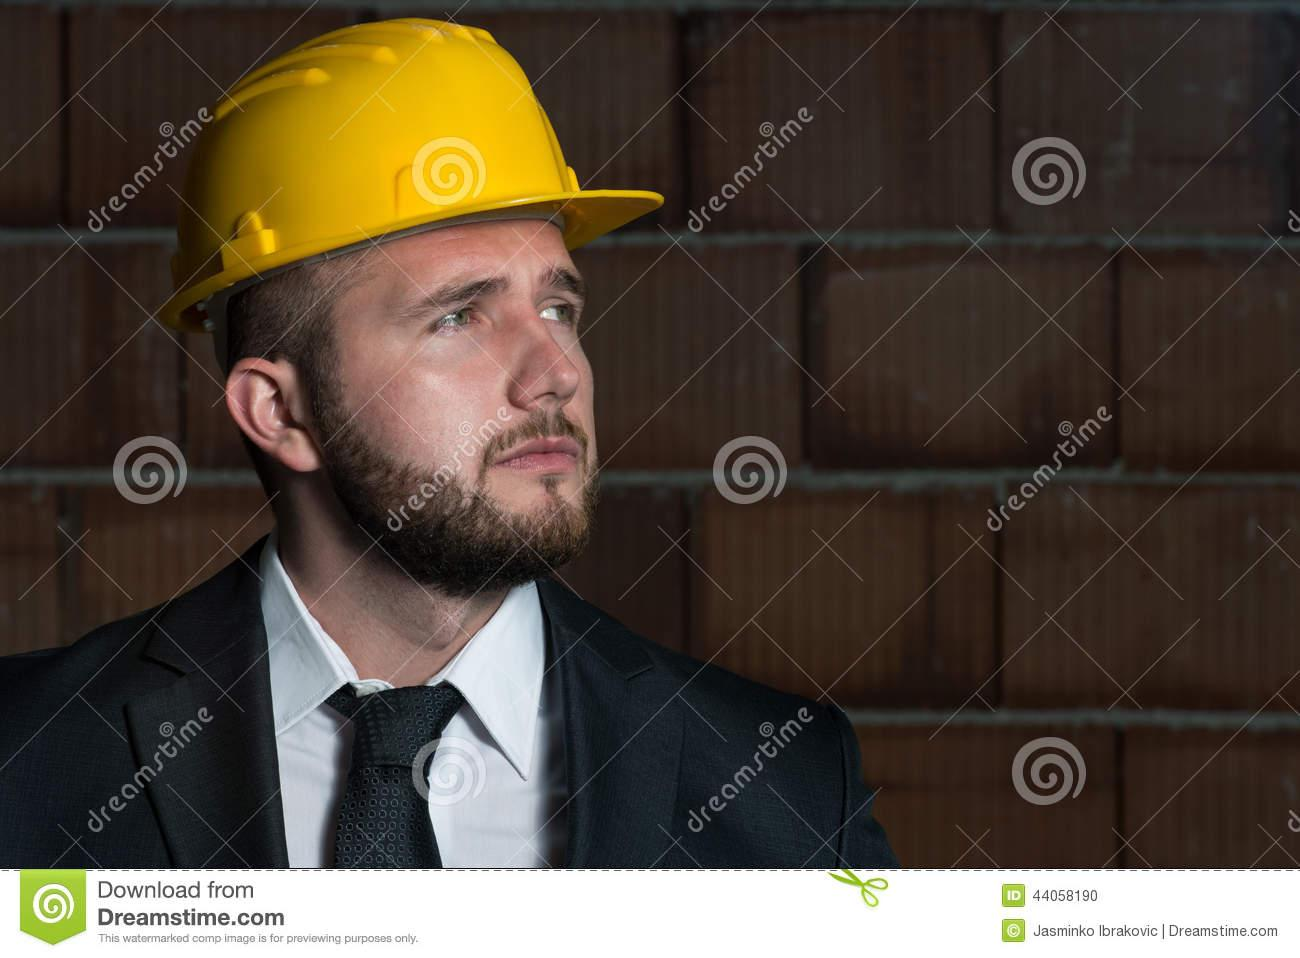helmet: (140, 20, 644, 330)
